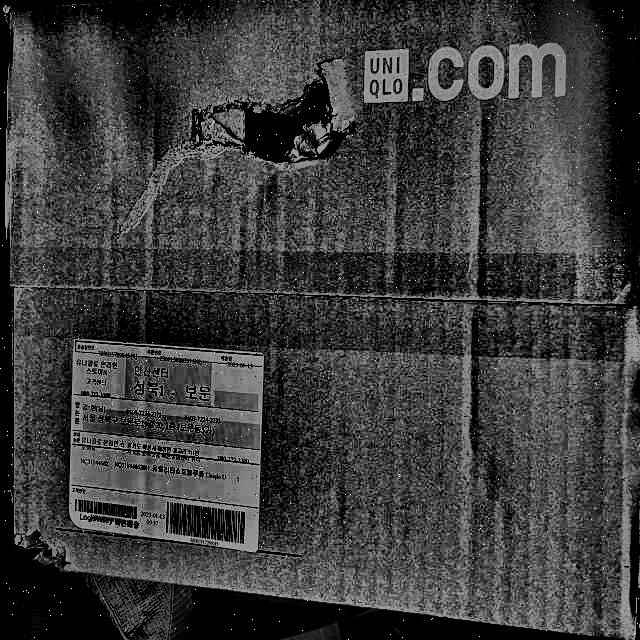box: (0, 0, 640, 640)
hole: (215, 77, 358, 177), (2, 516, 90, 584)
